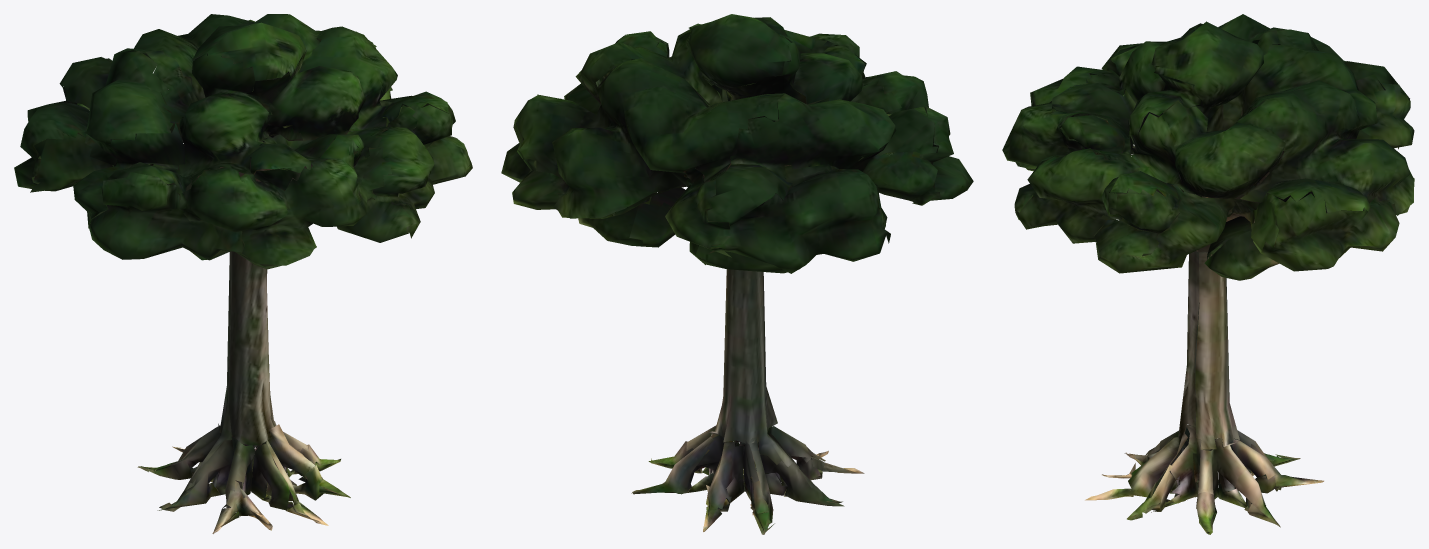
Rendered from jungle-tree.glb.
3 renders of one model, left to right at view 1: azimuth 30°, elevation 25°; view 2: azimuth 150°, elevation 25°; view 3: azimuth 270°, elevation 25°, orthographic.
Visible parts, largest first — view 1: model; view 2: model; view 3: model.
Part boxes in pixels (<box>): model: <box>14,14,472,533</box>; model: <box>501,14,973,534</box>; model: <box>1002,14,1414,534</box>.
Bounding box in the file's own units: 0.8356 × 1 × 0.8023.
1 material, 1 textured.
